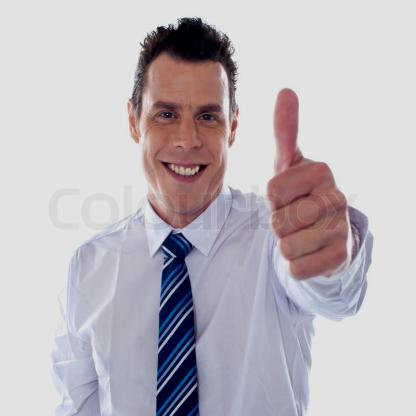Thumbs up: (242, 80, 362, 279)
